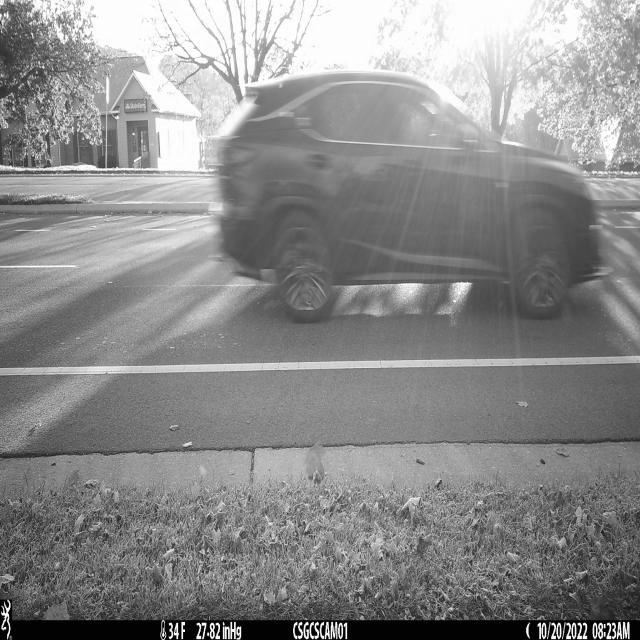SUV: (214, 69, 615, 324)
